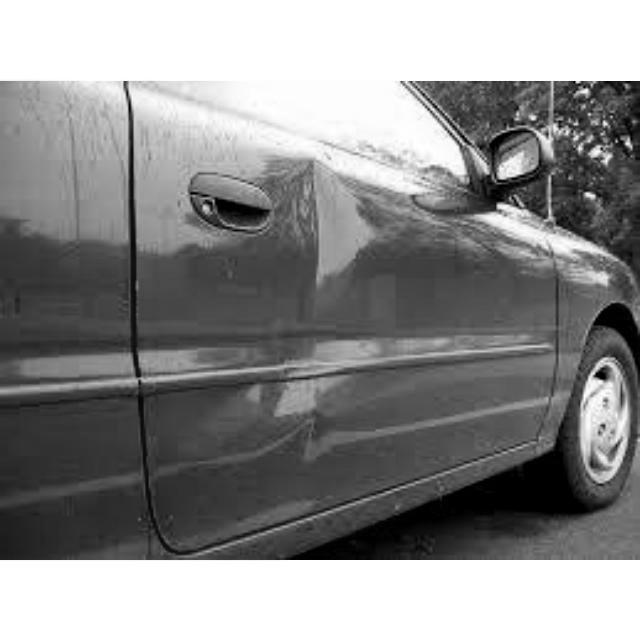doorouter-dent: (85, 98, 406, 545)
